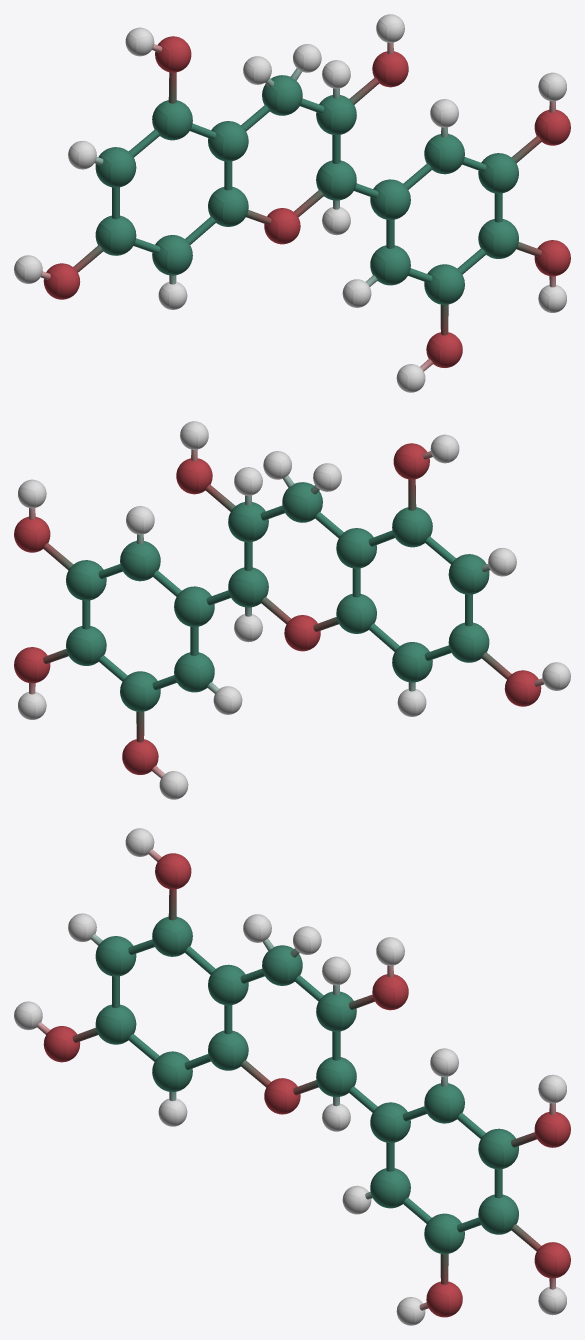
Rendered from EGC.fbx.
3 renders of one model, top to bottom at view 1: azimuth 30°, elevation 25°; view 2: azimuth 150°, elevation 25°; view 3: azimuth 330°, elevation 25°, orthographic.
Visible parts, largest first — view 1: curMeshHyperballExportedMesh; view 2: curMeshHyperballExportedMesh; view 3: curMeshHyperballExportedMesh.
Boxes of the visible parts, <box> form: curMeshHyperballExportedMesh: <box>14,14,570,392</box>; curMeshHyperballExportedMesh: <box>14,421,570,799</box>; curMeshHyperballExportedMesh: <box>14,828,570,1325</box>.
Size of the model in its own units: 8.85 by 6.56 by 0.5667.
